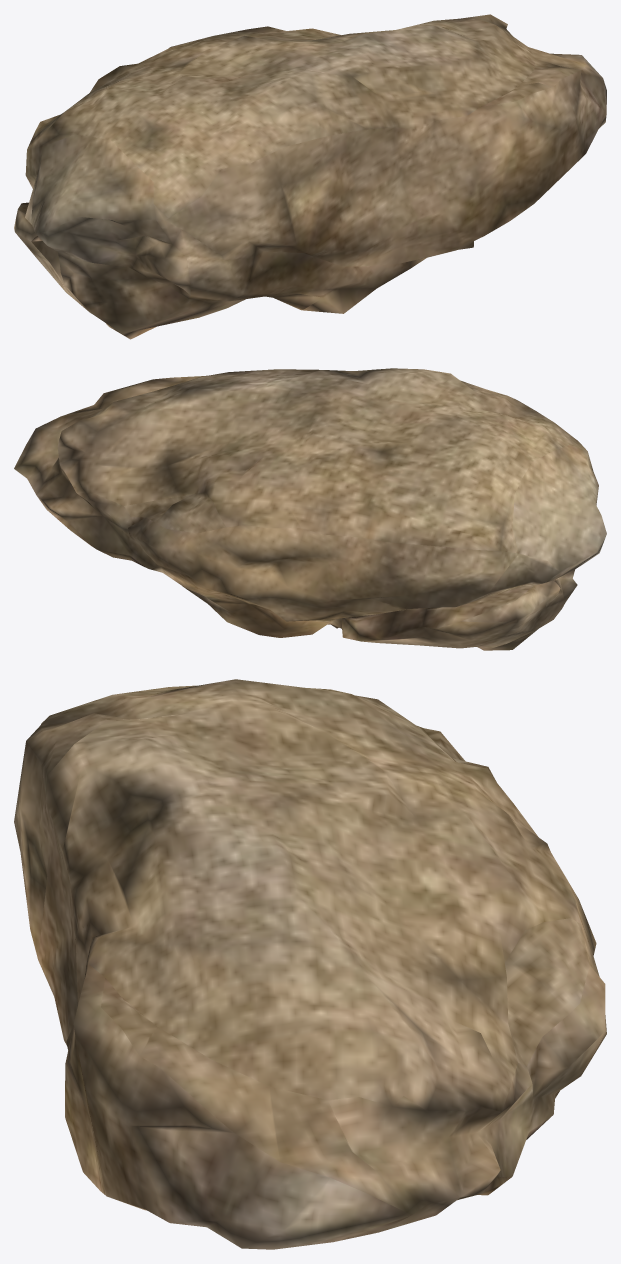
Rendered from namaqualand_boulder_05_lod1.glb.
3 renders of one model, top to bottom at view 1: azimuth 30°, elevation 25°; view 2: azimuth 150°, elevation 25°; view 3: azimuth 270°, elevation 25°, orthographic. The views are drawn at different scales.
Parts seen in each view (by area): view 1: namaqualand_boulder_05; view 2: namaqualand_boulder_05; view 3: namaqualand_boulder_05.
Boxes of the visible parts, x1,y1,x2,y2 form: namaqualand_boulder_05: (14,14,606,339); namaqualand_boulder_05: (14,368,606,650); namaqualand_boulder_05: (14,679,606,1249).
Size of the model in its own units: 1.36 by 0.5338 by 0.7439.
1 material, 1 textured.
